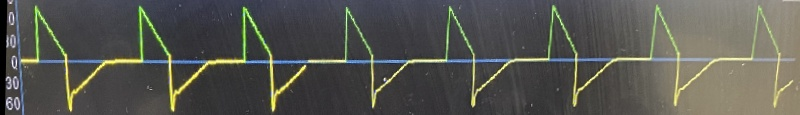normal_flow: (19, 0, 800, 115)
